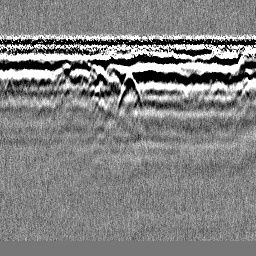cavity: (115, 69, 143, 115)
